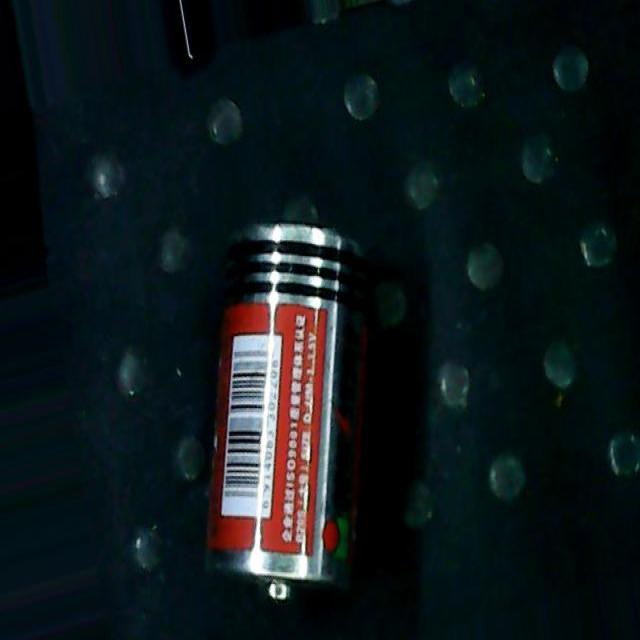-Hazardous waste - battery-: (207, 211, 367, 601)
